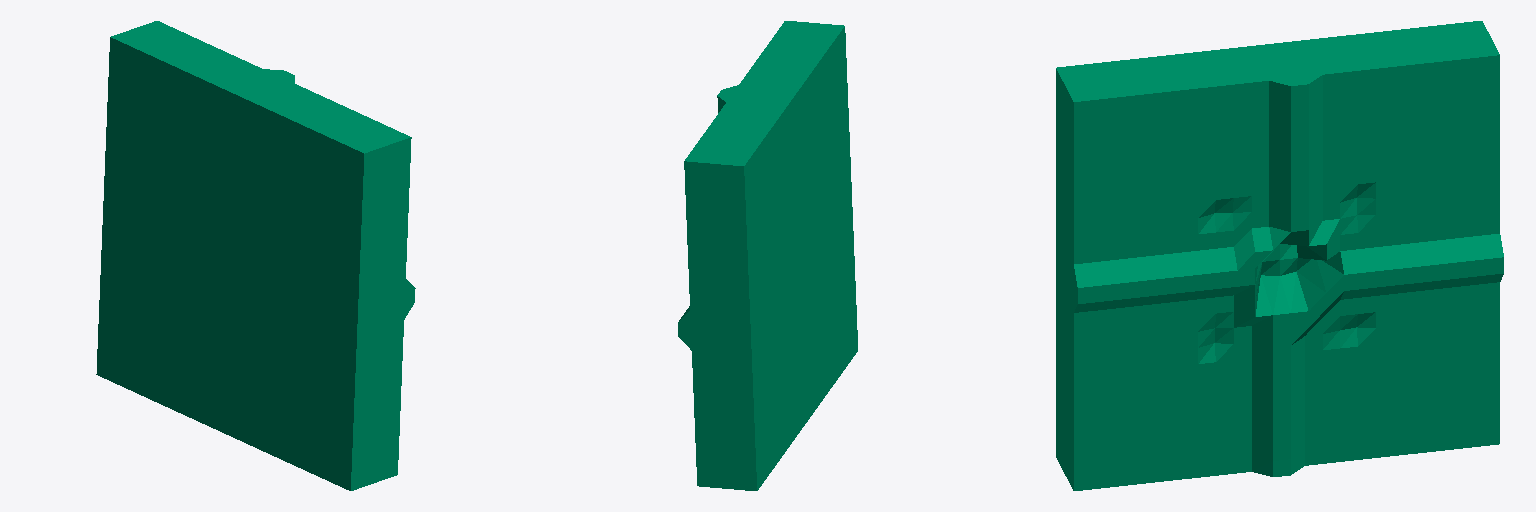
URDF robot description (satellite_8_provisional_side):
<?xml version='1.0' encoding='utf-8'?>
<robot name="satellite_8_provisional_side">
  <link name="base_link">
    <visual>
      <geometry>
        <mesh filename="satellite.stl" scale="1 1 1" />
      </geometry>
      <material name="satellite_body_color">
        <color rgba="0.65 0.72 0.8 1" />
      </material>
    </visual>
    <collision>
      <geometry>
        <mesh filename="satellite.stl" scale="1 1 1" />
      </geometry>
    </collision>
  </link>
  <link name="satellite_8_mount" />
  <joint name="satellite_mount_fixed" type="fixed">
    <parent link="base_link" />
    <child link="satellite_8_mount" />
    <origin xyz="0.15477028499931625 -0.178627828679634 0.5965685106964815" rpy="-1.5292767408638297 -0.009960664339460301 1.8061152658260409" />
  </joint>
  <link name="concept_mount_pad">
    <visual>
      <geometry>
        <mesh filename="prism_side_shim.stl" />
      </geometry>
    </visual>
    <collision>
      <geometry>
        <mesh filename="prism_side_shim.stl" />
      </geometry>
    </collision>
  </link>
  <joint name="pad_fixed" type="fixed">
    <parent link="satellite_8_mount" />
    <child link="concept_mount_pad" />
    <origin xyz="0 0 0" rpy="0 0 0" />
  </joint>
</robot>

--- Render facts (derived) ---
Views: 3 orthographic renders of the robot side by side, from view 1: azimuth 30°, elevation 25°; view 2: azimuth 150°, elevation 25°; view 3: azimuth 270°, elevation 25°.
Model satellite_8_provisional_side with 3 links and 2 joints (2 fixed), rooted at base_link, posed all joints at 0.
Visible links, largest first — view 1: concept_mount_pad; view 2: concept_mount_pad; view 3: concept_mount_pad.
Link boxes in pixels (x1=…): concept_mount_pad: x1=96, y1=21, x2=415, y2=490; concept_mount_pad: x1=678, y1=21, x2=857, y2=490; concept_mount_pad: x1=1056, y1=21, x2=1503, y2=490.
Size in the robot's own frame: 0.1487 by 0.3272 by 0.3252 metres.
1 mesh visuals loaded from 2 distinct referenced files (1 binary STL); not drawn: 1 (reference not matched to a file when rendering).
